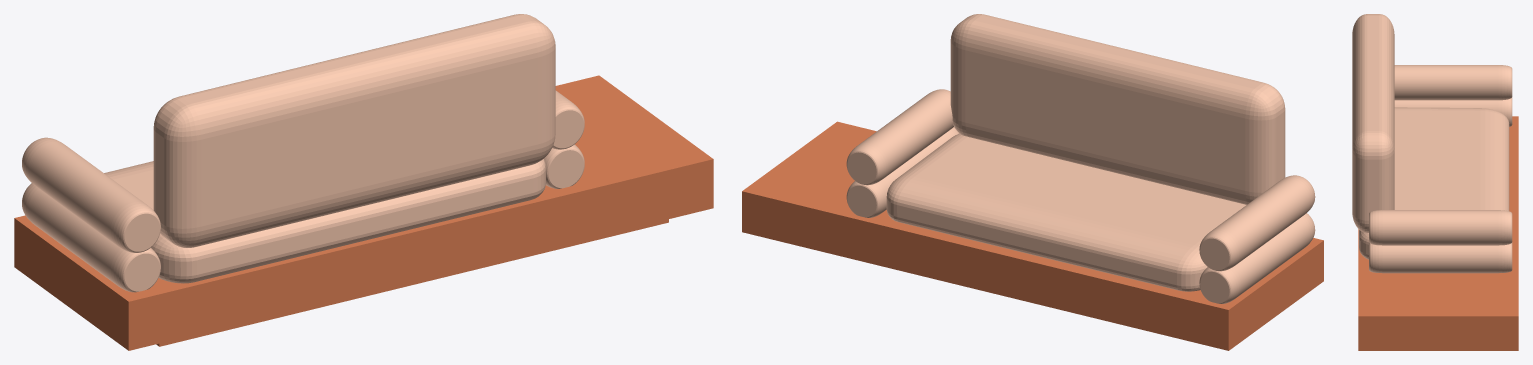
File: sofa.glb
3 renders of one model, left to right at view 1: azimuth 30°, elevation 25°; view 2: azimuth 150°, elevation 25°; view 3: azimuth 270°, elevation 25°, orthographic. The views are drawn at different scales.
Visible parts, largest first — view 1: Cube.024; view 2: Cube.024; view 3: Cube.024.
Boxes of the visible parts, left/top/right/bottom form: Cube.024: left=14, top=14, right=713, bottom=350; Cube.024: left=742, top=14, right=1323, bottom=350; Cube.024: left=1352, top=14, right=1518, bottom=350.
Bounding box in the file's own units: 2.15 × 0.8275 × 0.7554.
